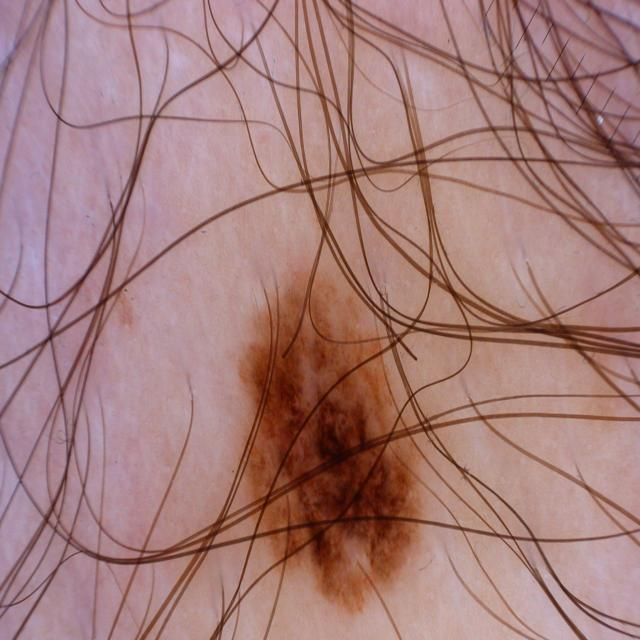Melanoma: (202, 279, 510, 640)
